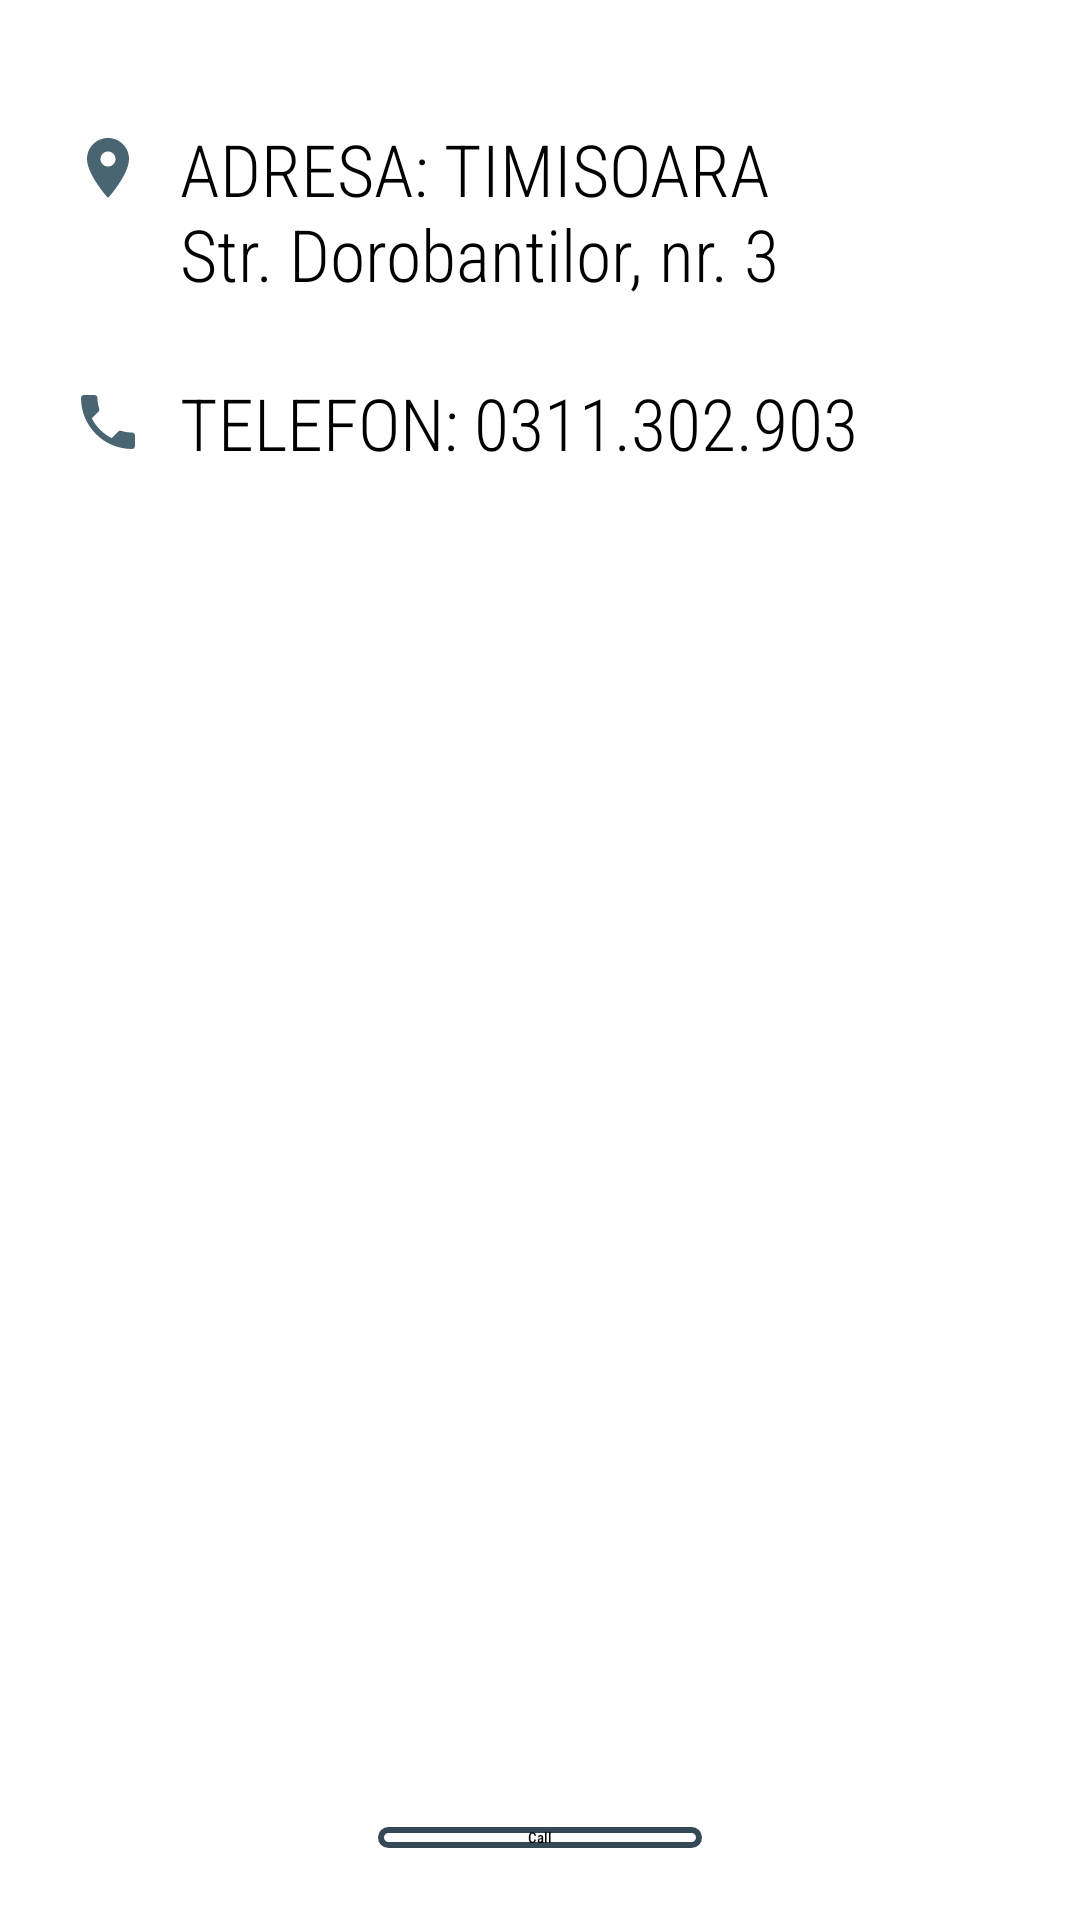

Where icons sit on this 1080px x 1920px app screen, as detection(x1, y1, x2, y2):
local phone: detection(81, 395, 135, 449)
location on: detection(87, 138, 129, 198)
